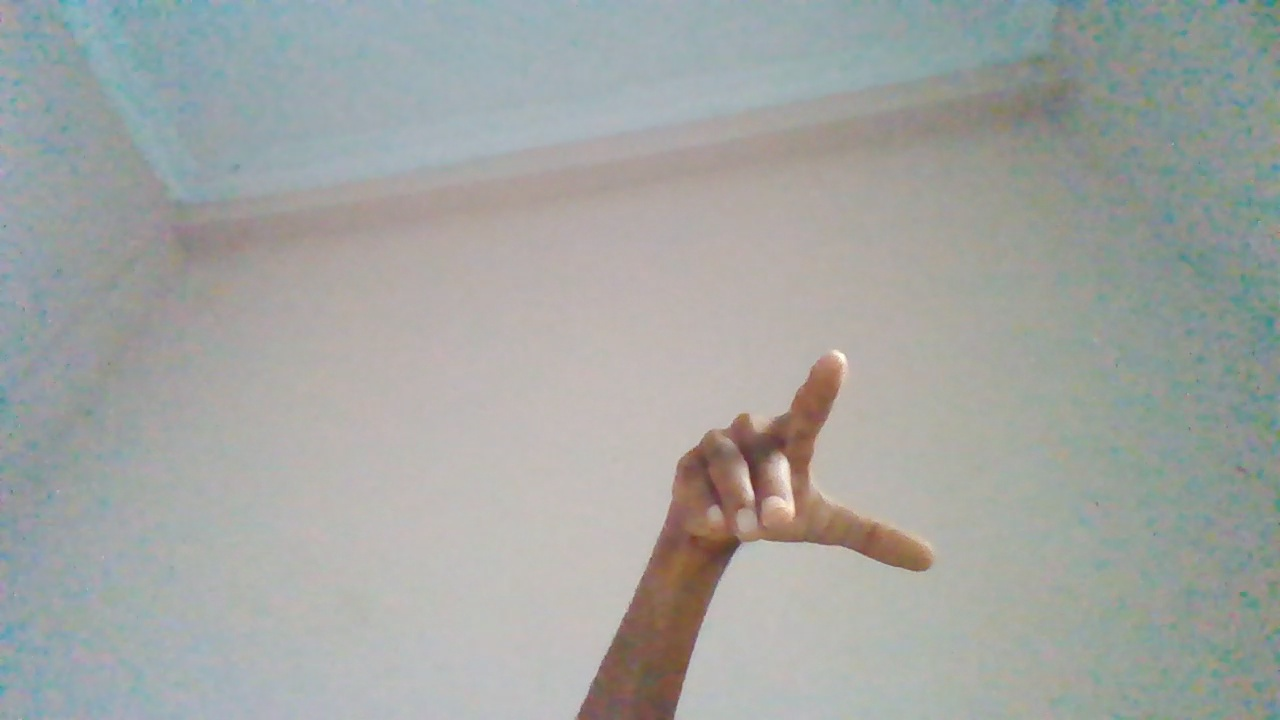ke: (635, 346, 932, 720)
